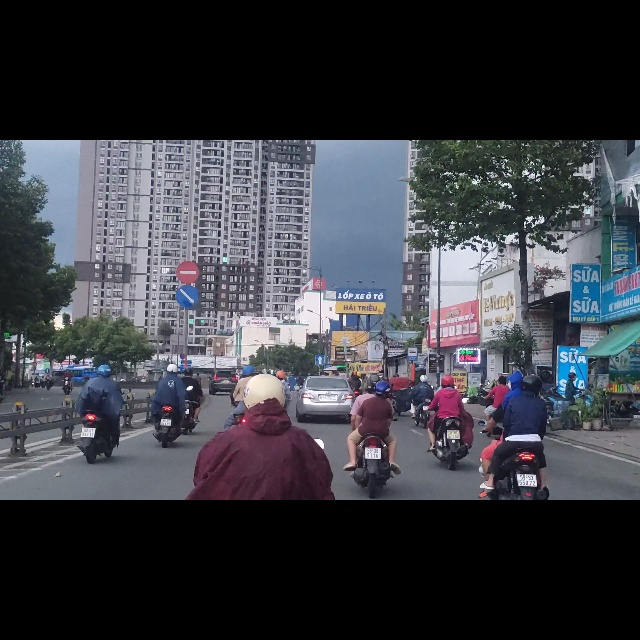bien_chi_dan: (176, 213, 200, 257), (175, 257, 200, 299), (407, 368, 418, 392), (315, 382, 325, 399)
